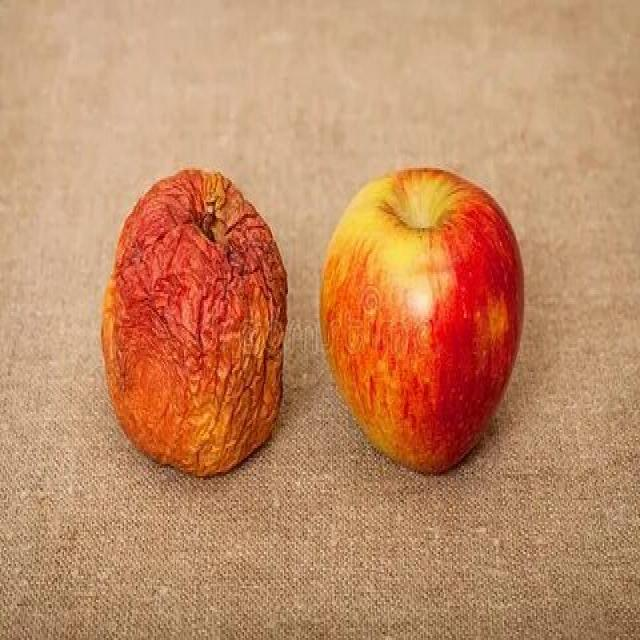fresh_apple: (322, 170, 523, 474)
rotten_apple: (100, 171, 288, 477)
